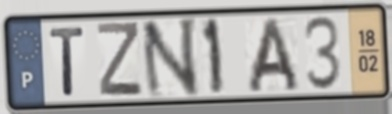1: (198, 16, 227, 99)
3: (302, 14, 343, 93)
A: (245, 15, 303, 95)
N: (138, 14, 201, 102)
T: (47, 24, 88, 98)
Z: (95, 20, 144, 100)
